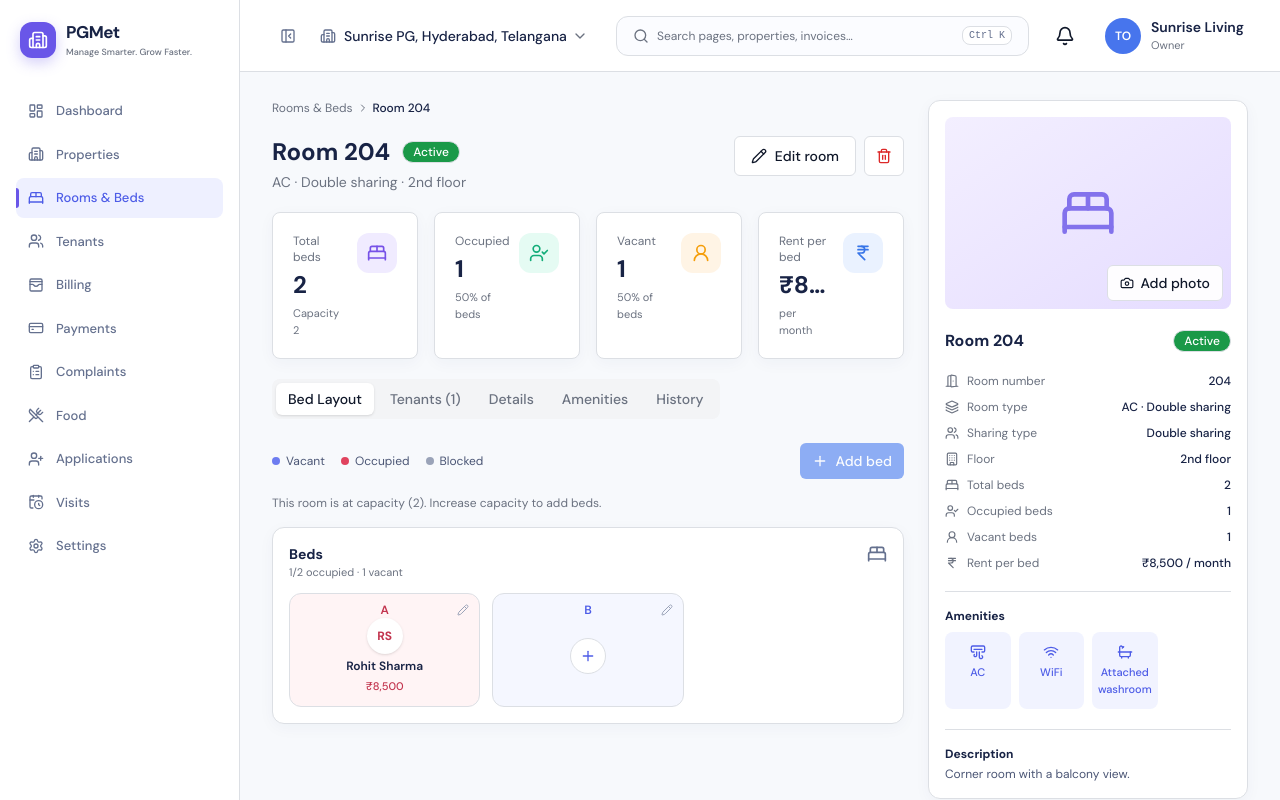
Test: Room detail page › Tenants and History tabs list current occupants and past check-ins
The image size is (1280, 800).
Click the tab "Tenants (1)".
click(425, 399)  # box [378,383,473,415]
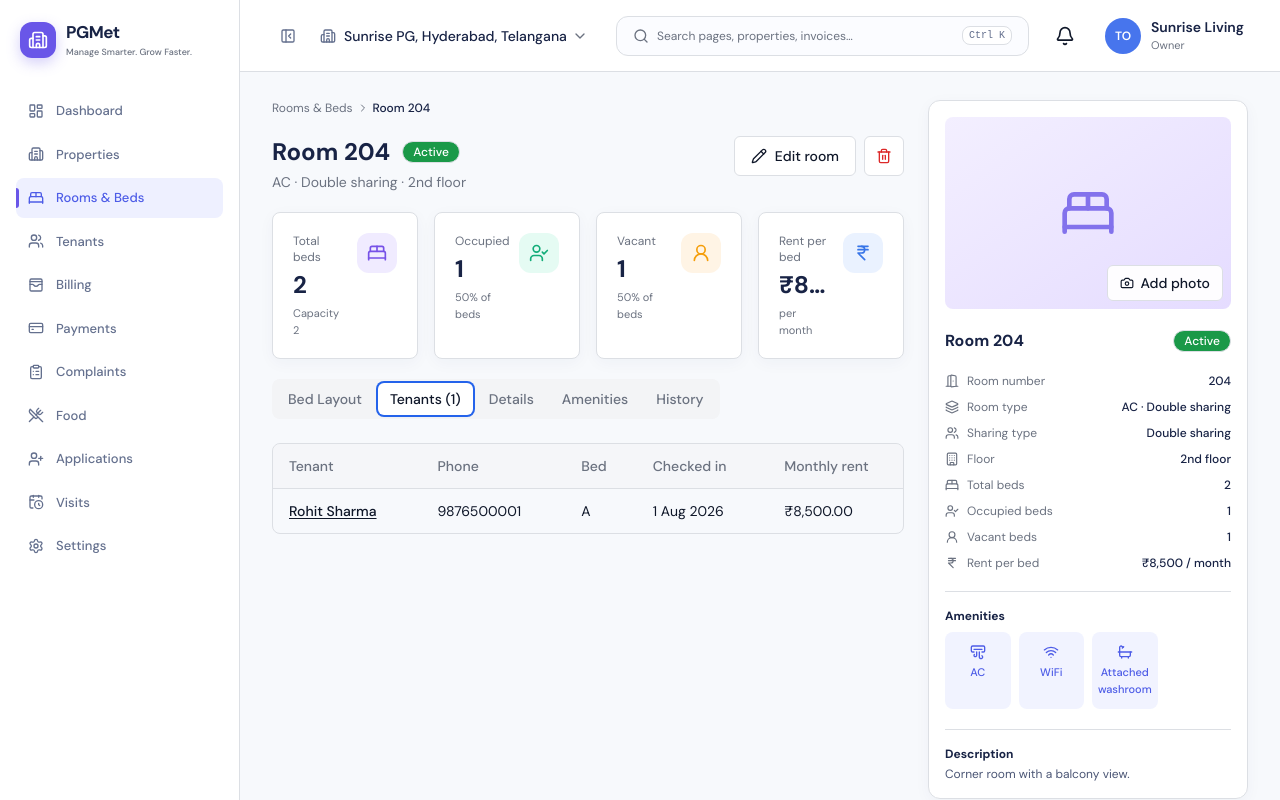
Check: the text "9876500001" is shown, box [422,489,565,533]
Check: the text "₹8,500.00" is shown, box [768,489,904,533]
Click the tab "History".
click(680, 399)  # box [644,383,716,415]
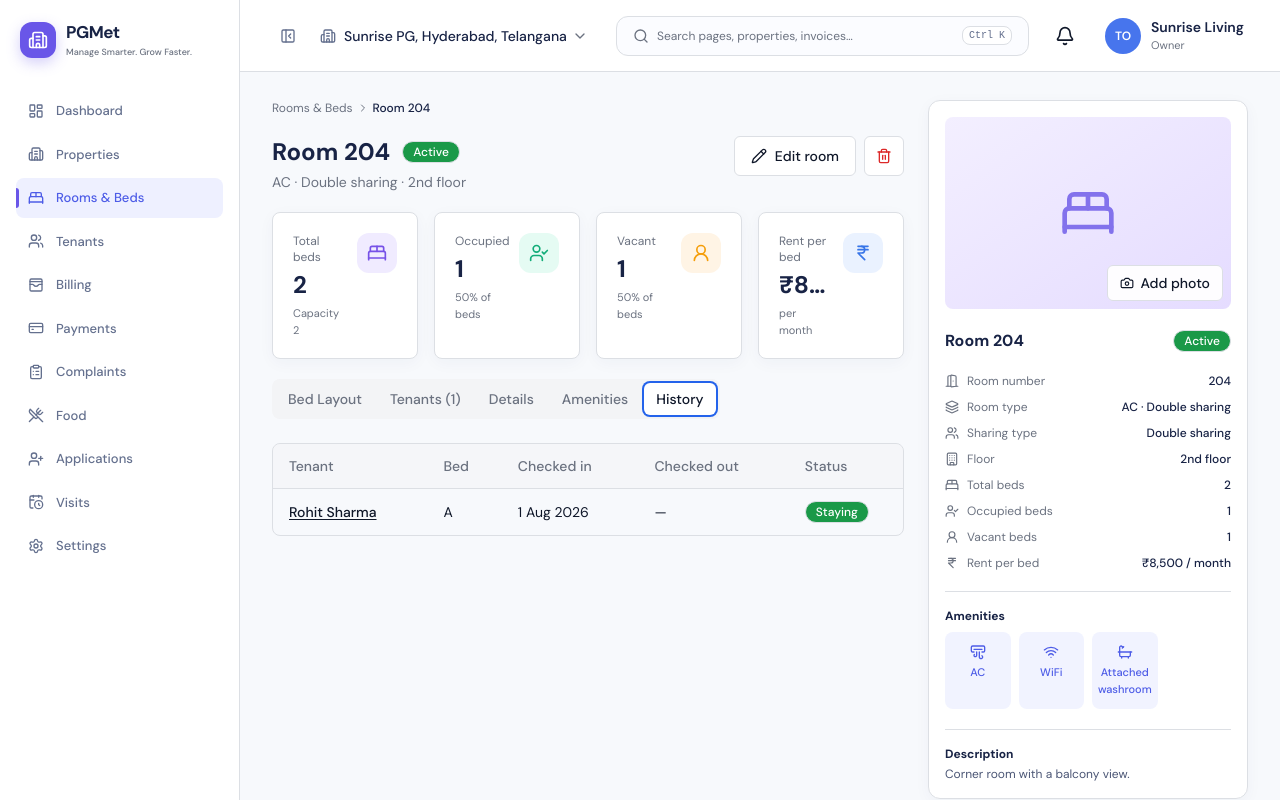
Check: the link "Rohit Sharma" is shown, box [289,503,376,521]
Check: the text "Staying" is shown, box [805,501,869,523]
